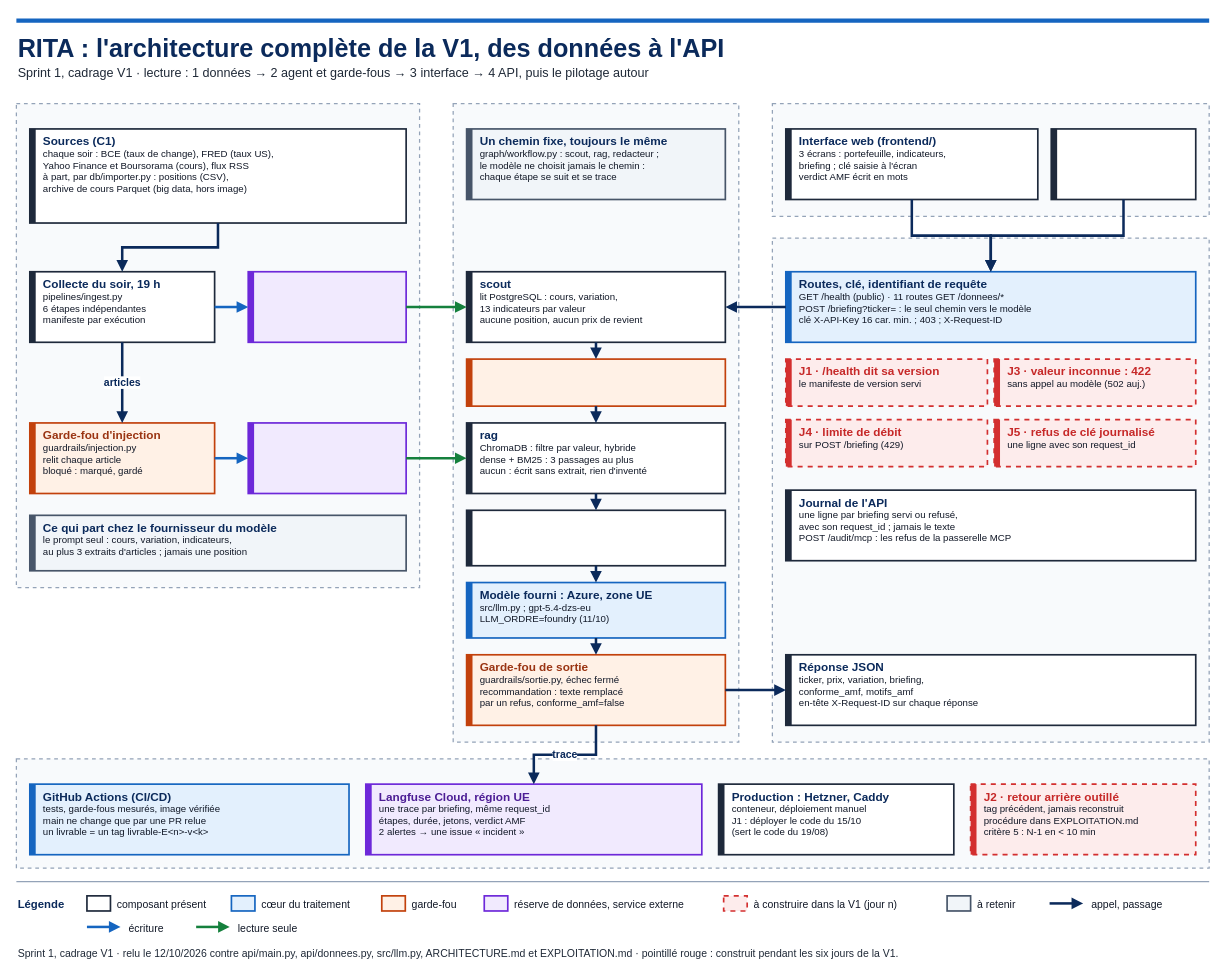
Image size: 1226x977. Some labels were removed from this diagram. The shapes that lost their labels are listed below. From the top down, each one's box as (x1, y1, x2, y2) in pixels, then its label:
(771, 103, 1209, 217): 3 · INTERFACE
(1050, 128, 1196, 200): Passerelle MCP 3 outils en lecture seule, avec la clé aucun accès à /briefing
(247, 270, 407, 343): PostgreSQL 10 tables, 1 vue cours, taux, articles, positions (RGPD)
(15, 103, 420, 588): 1 · DONNÉES
(465, 358, 726, 407): Garde-fou d'entrée (début de rag) intention AMF refusée avant la recherche
(452, 103, 739, 742): 2 · AGENT + GARDE-FOUS (LangGraph)
(247, 422, 407, 494): ChromaDB articles découpés et vectorisés, reconstruit chaque soir
(771, 237, 1209, 742): 4 · API (FastAPI, api/main.py)
(465, 509, 726, 566): redacteur agents/analyst.py : la consigne, interdit AMF écrit dedans
(15, 758, 1209, 868): AUTOUR : PILOTAGE ET SIGNAUX (détail : E3-chaine-livraison, E3-monitorage)
